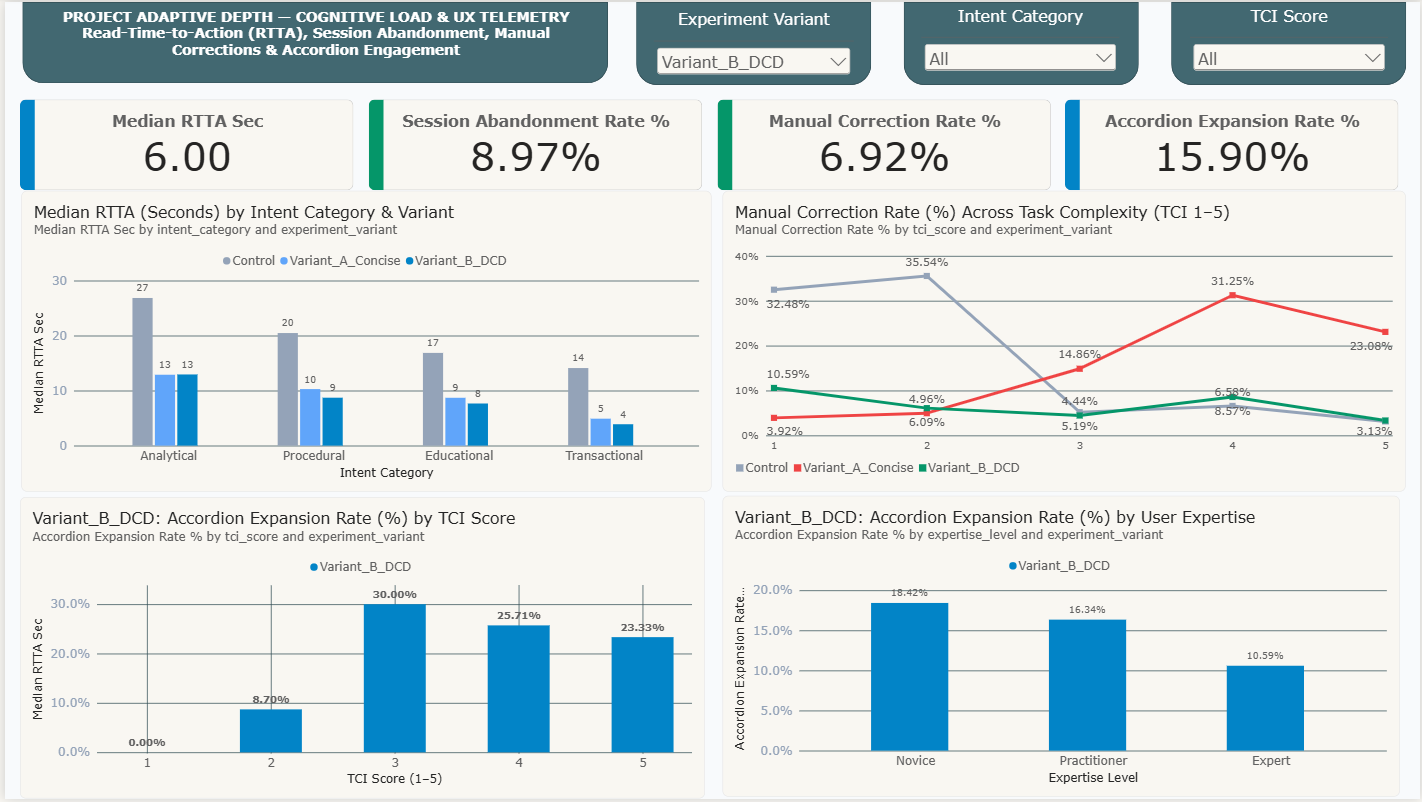

The dashboard page shown, as its layout file describes it:
{"tool":"powerbi","page":{"name":"2. UX & Cognitive Load","canvas":[1920,1080],"ordinal":1},"visuals":[{"type":"shape","box":[24,0,794,110],"z":0,"group":"g6"},{"type":"group","id":"g1","title":"Group 1","box":[856.2,0,318.8,112.5],"z":0},{"type":"shape","box":[1219,0,318.8,112.5],"z":0,"group":"g2"},{"type":"shape","box":[856.2,0,318.8,112.5],"z":1000,"group":"g1"},{"type":"group","id":"g2","title":"Group 2","box":[1219,0,318.8,112.5],"z":1000},{"type":"group","id":"g3","title":"Group 3","box":[1581.7,0,318.3,113.3],"z":2000},{"type":"cardVisual","fields":{"Data":["_Measures.Median RTTA Sec"]},"box":[20,132,452.6,124],"z":2000,"group":"g4"},{"type":"group","id":"g4","title":"Group 4","box":[20,132,1870,124],"z":3000},{"type":"cardVisual","fields":{"Data":["_Measures.Session Abandonment Rate %"]},"box":[492.5,132,452.6,124],"z":3000,"group":"g4"},{"type":"textbox","box":[46,8,752,92],"z":4000,"group":"g6"},{"type":"cardVisual","fields":{"Data":["_Measures.Manual Correction Rate %"]},"box":[964.9,132,452.6,124],"z":4000,"group":"g4"},{"type":"group","id":"g5","title":"Group 5","box":[22,256,1876,408],"z":4000},{"type":"group","id":"g6","title":"Group 6","box":[24,0,794,110],"z":5000},{"type":"cardVisual","fields":{"Data":["_Measures.Accordion Expansion Rate %"]},"box":[1437.4,132,452.6,124],"z":5000,"group":"g4"},{"type":"clusteredColumnChart","title":"Median RTTA (Seconds) by Intent Category & Variant","fields":{"Category":["dcd_indian_token_economics_5k (2).intent_category"],"Series":["dcd_indian_token_economics_5k (2).experiment_variant"],"Y":["_Measures.Median RTTA Sec"]},"box":[22,256,936,408],"z":6000,"group":"g5"},{"type":"clusteredColumnChart","title":"Variant_B_DCD: Accordion Expansion Rate (%) by User Expertise","fields":{"Category":["dcd_indian_token_economics_5k (2).expertise_level"],"Series":["dcd_indian_token_economics_5k (2).experiment_variant"],"Y":["_Measures.Accordion Expansion Rate %"]},"box":[972,670,918,408],"z":6000,"group":"g8"},{"type":"group","id":"g7","title":"Group 7","box":[20,671.4,928.6,408.6],"z":6000,"group":"g9"},{"type":"clusteredColumnChart","title":"Variant_B_DCD: Accordion Expansion Rate (%) by TCI Score","fields":{"Category":["dcd_indian_token_economics_5k (2).tci_score"],"Series":["dcd_indian_token_economics_5k (2).experiment_variant"],"Y":["_Measures.Accordion Expansion Rate %"]},"box":[20,671.4,928.6,408.6],"z":6000,"group":"g7"},{"type":"lineChart","title":"Manual Correction Rate (%) Across Task Complexity (TCI 1–5)","fields":{"Category":["dcd_indian_token_economics_5k (2).tci_score"],"Series":["dcd_indian_token_economics_5k (2).experiment_variant"],"Y":["_Measures.Manual Correction Rate %"]},"box":[972,256,926,408],"z":7000,"group":"g5"},{"type":"group","id":"g8","title":"Group 7","box":[972,670,918,408],"z":7000,"group":"g9"},{"type":"group","id":"g9","title":"Group 8","box":[20,670,1870,410],"z":7001},{"type":"slicer","title":"Intent Category","fields":{"Values":["dcd_indian_token_economics_5k (2).intent_category"]},"box":[1243.4,5.6,269,99.1],"z":9000,"group":"g2"},{"type":"slicer","title":"Experiment Variant","fields":{"Values":["dcd_indian_token_economics_5k (2).experiment_variant"]},"box":[880,10,271.4,94.3],"z":10000,"group":"g1"},{"type":"shape","box":[1581.7,0,318.8,112.5],"z":13000,"group":"g3"},{"type":"slicer","title":"TCI Score","fields":{"Values":["dcd_indian_token_economics_5k (2).tci_score"]},"box":[1606.3,4.4,269,99.1],"z":14000,"group":"g3"}]}

Visuals, with their boxes in screenshot pixels (x1, y1, x2, y2), scaled from the page's 1920x1080 canvas onto the 1422x802 screenshot:
shape: crop(18, 0, 606, 82)
"Group 1" group: crop(634, 0, 870, 84)
shape: crop(903, 0, 1139, 84)
shape: crop(634, 0, 870, 84)
"Group 2" group: crop(903, 0, 1139, 84)
"Group 3" group: crop(1171, 0, 1407, 84)
cardVisual - _Measures.Median RTTA Sec: crop(15, 98, 350, 190)
"Group 4" group: crop(15, 98, 1400, 190)
cardVisual - _Measures.Session Abandonment Rate %: crop(365, 98, 700, 190)
textbox: crop(34, 6, 591, 74)
cardVisual - _Measures.Manual Correction Rate %: crop(715, 98, 1050, 190)
"Group 5" group: crop(16, 190, 1406, 493)
"Group 6" group: crop(18, 0, 606, 82)
cardVisual - _Measures.Accordion Expansion Rate %: crop(1065, 98, 1400, 190)
"Median RTTA (Seconds) by Intent Category & Variant" clusteredColumnChart: crop(16, 190, 710, 493)
"Variant_B_DCD: Accordion Expansion Rate (%) by User Expertise" clusteredColumnChart: crop(720, 498, 1400, 801)
"Group 7" group: crop(15, 499, 703, 801)
"Variant_B_DCD: Accordion Expansion Rate (%) by TCI Score" clusteredColumnChart: crop(15, 499, 703, 801)
"Manual Correction Rate (%) Across Task Complexity (TCI 1–5)" lineChart: crop(720, 190, 1406, 493)
"Group 7" group: crop(720, 498, 1400, 801)
"Group 8" group: crop(15, 498, 1400, 801)
"Intent Category" slicer: crop(921, 4, 1120, 78)
"Experiment Variant" slicer: crop(652, 7, 853, 77)
shape: crop(1171, 0, 1408, 84)
"TCI Score" slicer: crop(1190, 3, 1389, 77)
